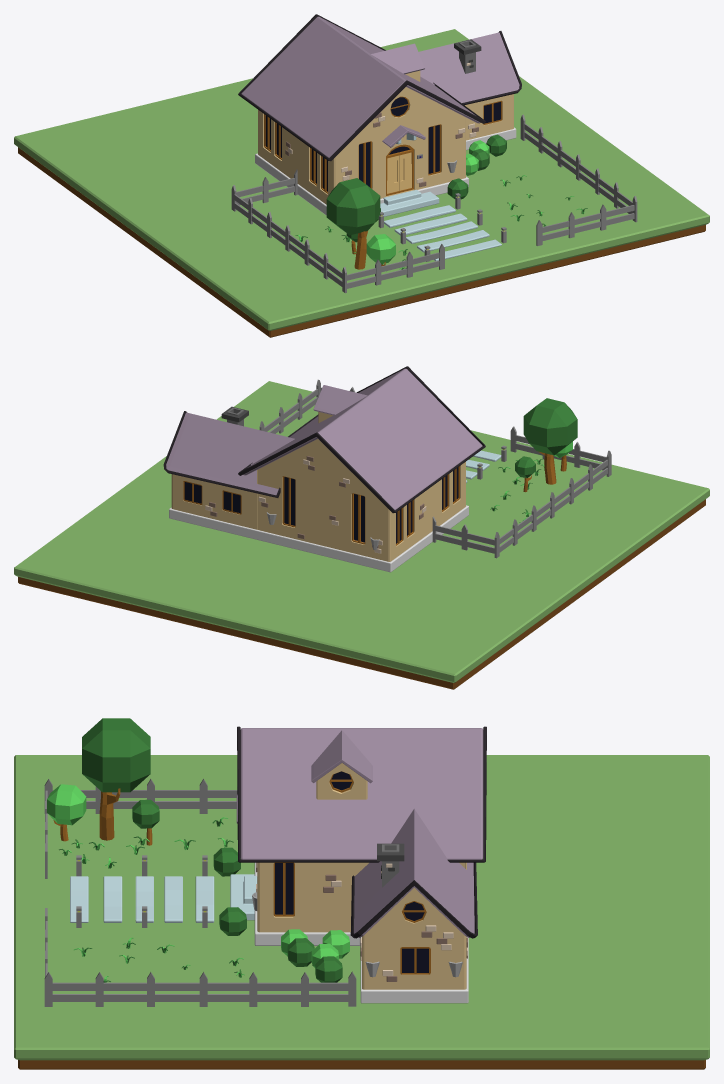
Rendered from HOUSE_MODEL_1.fbx.
The picture shows the model from 3 angles, top to bottom: view 1: azimuth 30°, elevation 25°; view 2: azimuth 150°, elevation 25°; view 3: azimuth 270°, elevation 25°; orthographic projection. The views are drawn at different scales.
Visible parts, largest first — view 1: YER, ÇATI 1, DUVAR 2, ÇATI 2.003, YER.003, YER.002, DUVAR 3, YER.005, DUVAR 7, TABAN, MERDİVEN, YER.004 (+4 smaller); view 2: YER, ÇATI 1, DUVAR 4, ÇATI 2.003, YER.003, DUVAR 3, TABAN, DUVAR 5, YER.005, YER.002; view 3: YER, ÇATI 1, ÇATI 2.003, DUVAR 6, DUVAR 1, YER.002, YER.005, YER.003, TABAN, YER.004, MERDİVEN, YER.001 (+10 smaller).
Part boxes in pixels (x1,y1,x2,y2): YER: (14, 29, 709, 337); ÇATI 1: (238, 14, 485, 161); DUVAR 2: (334, 87, 465, 198); ÇATI 2.003: (418, 31, 521, 105); YER.003: (231, 169, 444, 293); YER.002: (520, 114, 637, 246); DUVAR 3: (258, 110, 333, 204); YER.005: (326, 178, 380, 269); DUVAR 7: (465, 94, 513, 140); TABAN: (255, 127, 516, 215); MERDİVEN: (380, 189, 439, 216); YER.004: (366, 234, 395, 266); YER: (14, 381, 709, 689); ÇATI 1: (238, 366, 485, 513); DUVAR 4: (257, 439, 389, 561); ÇATI 2.003: (163, 406, 294, 497); YER.003: (432, 426, 611, 558); DUVAR 3: (390, 462, 465, 561); TABAN: (169, 505, 468, 572); DUVAR 5: (171, 474, 257, 529); YER.005: (523, 398, 577, 484); YER.002: (259, 379, 354, 433); YER: (14, 755, 709, 1069); ÇATI 1: (237, 726, 486, 862); ÇATI 2.003: (350, 809, 477, 938); DUVAR 6: (362, 887, 465, 989); DUVAR 1: (258, 862, 466, 932); YER.002: (44, 908, 356, 1006); YER.005: (82, 718, 150, 840); YER.003: (44, 779, 237, 878); TABAN: (254, 862, 468, 1003); YER.004: (47, 784, 86, 841); MERDİVEN: (230, 874, 257, 920); YER.001: (59, 817, 244, 982).
Size of the model in its own units: 1331 by 418 by 1331.
